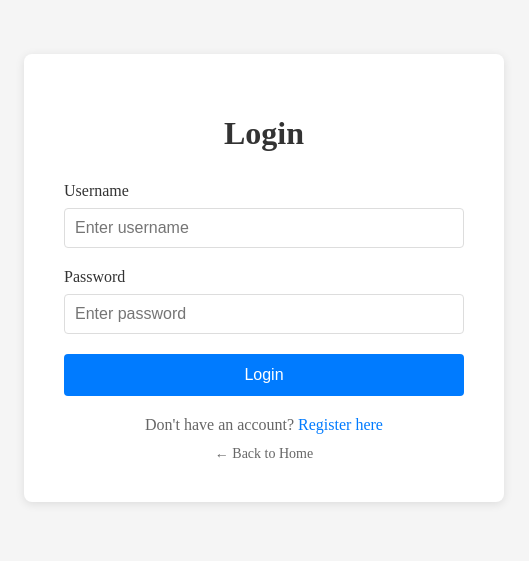
Test: Frontend Tests › Login Page › should handle login error
Step 1. Type "testuser" into the field with placeholder "Enter username" → (264, 228), box [64,208,464,248]
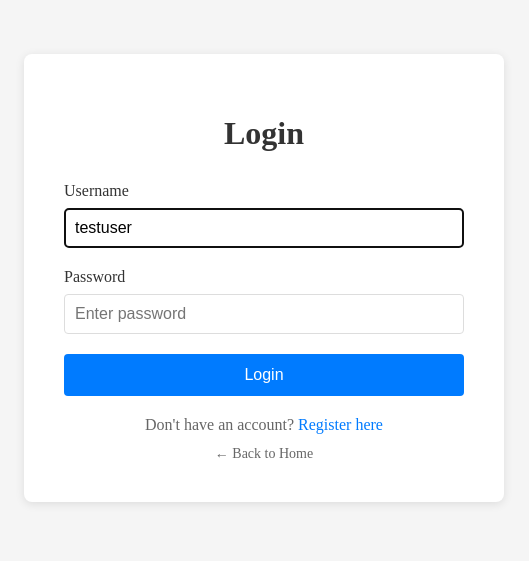
Step 2. Type "wrongpassword" into the password field with placeholder "Enter password" → (264, 314), box [64,294,464,334]
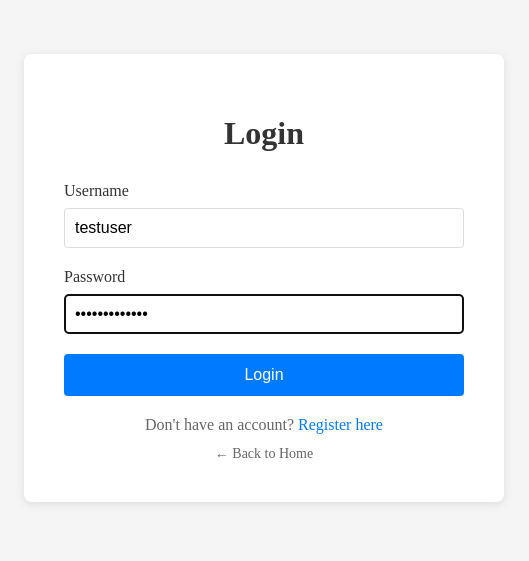
Step 3. Click the button "Login" → (264, 375), box [64,354,464,396]
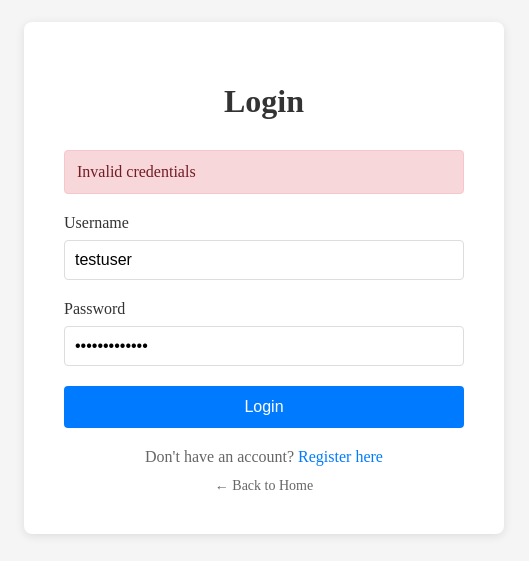
Expected: the text "Invalid credentials" is shown, [64,150,464,194]
